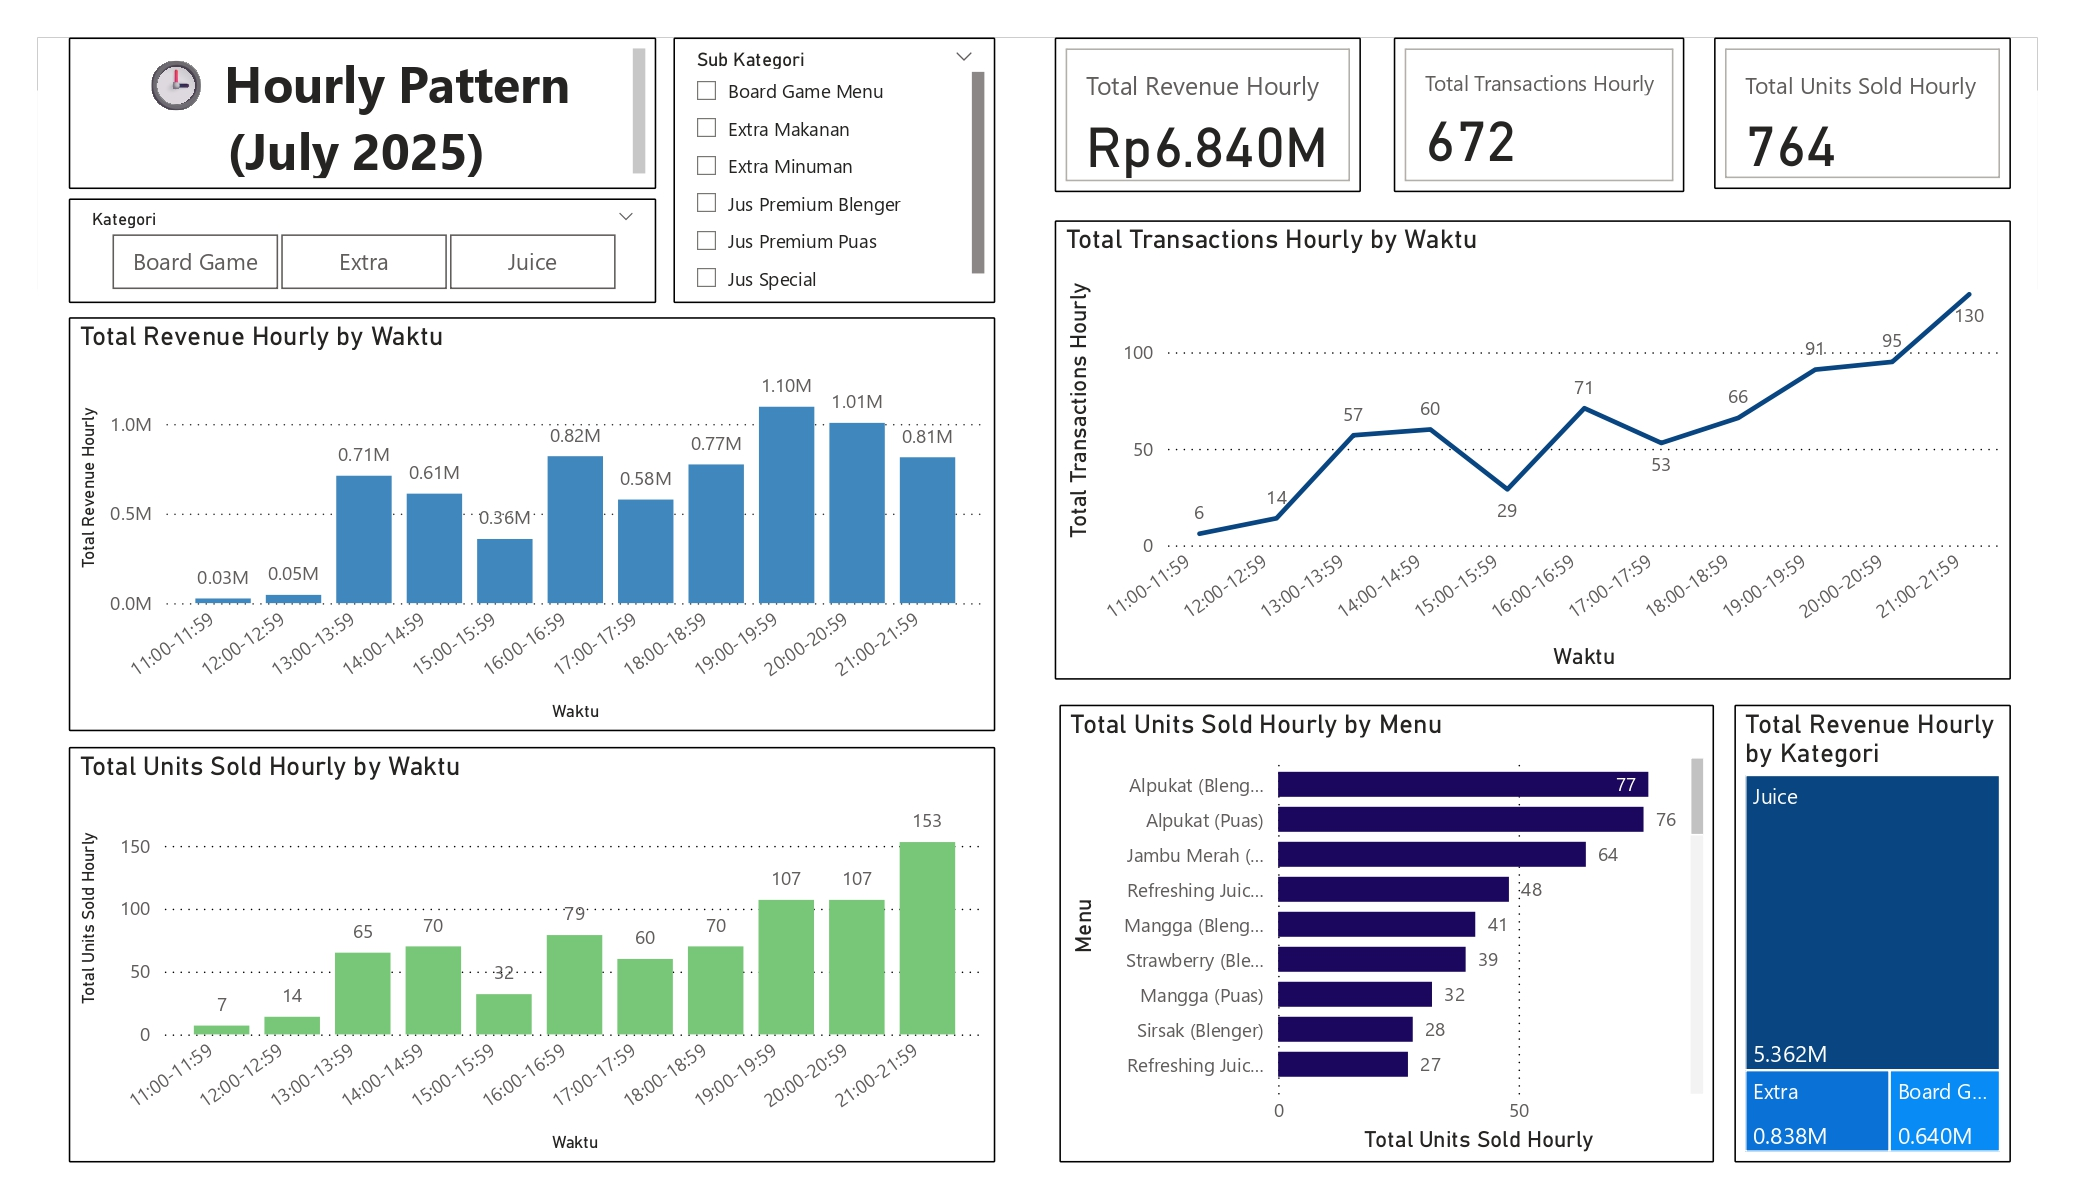

What the dashboard file says about the page in this screenshot:
{"tool":"powerbi","page":{"name":"hourly_pattern","canvas":[1280,720],"ordinal":2},"visuals":[{"type":"columnChart","fields":{"Y":["Penjualan Menu per Jam.Total Revenue Hourly"],"Category":["Dim_Waktu.Waktu"]},"box":[20,178.6,592.9,265.7],"z":0},{"type":"cardVisual","fields":{"Data":["Penjualan Menu per Jam.Total Revenue Hourly"]},"box":[651.4,0,195.7,98.6],"z":1},{"type":"cardVisual","fields":{"Data":["Penjualan Menu per Jam.Total Units Sold Hourly"]},"box":[1072.9,0,190,97.1],"z":2},{"type":"cardVisual","fields":{"Data":["Penjualan Menu per Jam.Total Transactions Hourly"]},"box":[868,0,185.6,98.9],"z":3},{"type":"slicer","fields":{"Values":["Penjualan Menu per Jam.Kategori"]},"box":[20,103,375.6,66.7],"z":4},{"type":"slicer","fields":{"Values":["Penjualan Menu per Jam.Sub Kategori"]},"box":[406.7,0,206.7,170],"z":5},{"type":"textbox","box":[20,0,375.7,97.1],"z":6},{"type":"columnChart","fields":{"Category":["Dim_Waktu.Waktu"],"Y":["Penjualan Menu per Jam.Total Units Sold Hourly"]},"box":[20,454.3,592.9,265.7],"z":7},{"type":"lineChart","fields":{"Category":["Dim_Waktu.Waktu"],"Y":["Penjualan Menu per Jam.Total Transactions Hourly"]},"box":[651.4,117.1,611.4,294.3],"z":8},{"type":"treemap","fields":{"Group":["Penjualan Menu per Jam.Kategori"],"Values":["Penjualan Menu per Jam.Total Revenue Hourly"]},"box":[1085.7,427.1,177.1,292.9],"z":9},{"type":"barChart","fields":{"Category":["Penjualan Menu per Jam.Menu"],"Y":["Penjualan Menu per Jam.Total Units Sold Hourly"]},"box":[654.3,427.1,418.6,292.9],"z":10}]}

Visuals, with their boxes in screenshot pixels (x1, y1, x2, y2):
columnChart - Penjualan Menu per Jam.Total Revenue Hourly x Dim_Waktu.Waktu: [x1=69, y1=317, x2=995, y2=732]
cardVisual - Penjualan Menu per Jam.Total Revenue Hourly: [x1=1055, y1=38, x2=1361, y2=192]
cardVisual - Penjualan Menu per Jam.Total Units Sold Hourly: [x1=1714, y1=38, x2=2011, y2=189]
cardVisual - Penjualan Menu per Jam.Total Transactions Hourly: [x1=1394, y1=38, x2=1684, y2=192]
slicer - Penjualan Menu per Jam.Kategori: [x1=69, y1=198, x2=656, y2=303]
slicer - Penjualan Menu per Jam.Sub Kategori: [x1=673, y1=38, x2=996, y2=303]
textbox: [x1=69, y1=38, x2=656, y2=189]
columnChart - Dim_Waktu.Waktu x Penjualan Menu per Jam.Total Units Sold Hourly: [x1=69, y1=747, x2=995, y2=1162]
lineChart - Dim_Waktu.Waktu x Penjualan Menu per Jam.Total Transactions Hourly: [x1=1055, y1=220, x2=2011, y2=680]
treemap - Penjualan Menu per Jam.Kategori x Penjualan Menu per Jam.Total Revenue Hourly: [x1=1734, y1=705, x2=2011, y2=1162]
barChart - Penjualan Menu per Jam.Menu x Penjualan Menu per Jam.Total Units Sold Hourly: [x1=1060, y1=705, x2=1714, y2=1162]
